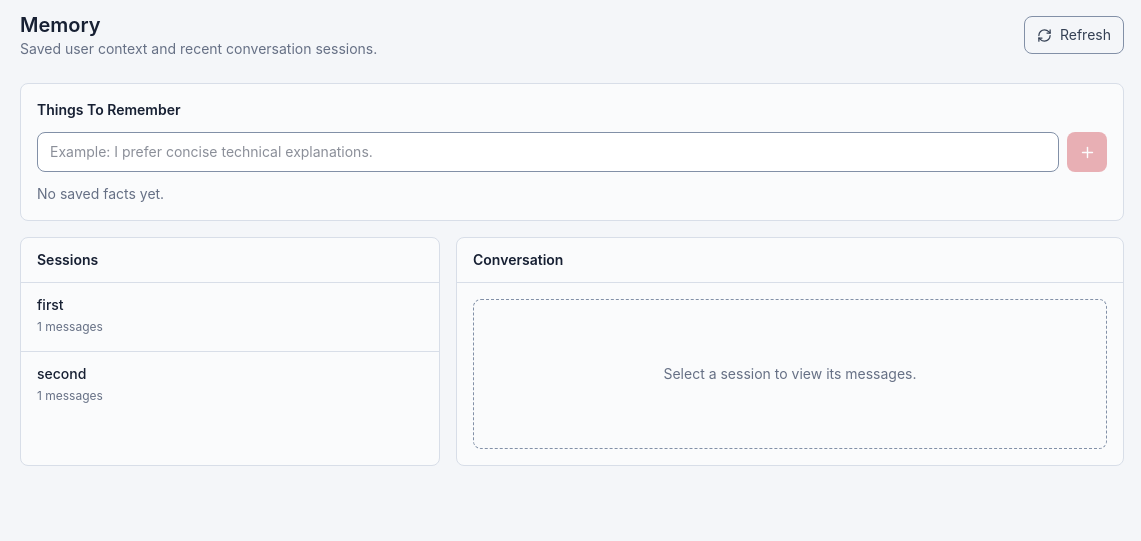
ignores a slower history response for a previously selected session
The image size is (1141, 541).
What coordinates should you click on to do the following:
click the button "first 1 messages"
I would click on:
 (72, 326)
Its box is [21,283,439,352].
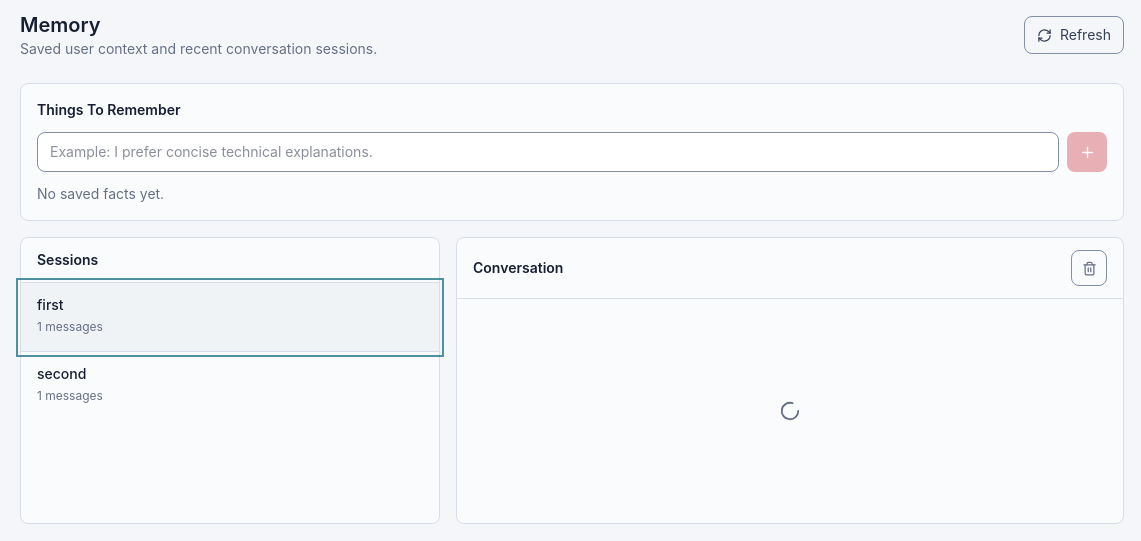
What coordinates should you click on to do the following:
click the button "second 1 messages"
I would click on:
 (62, 374)
Its box is [21,352,439,420].
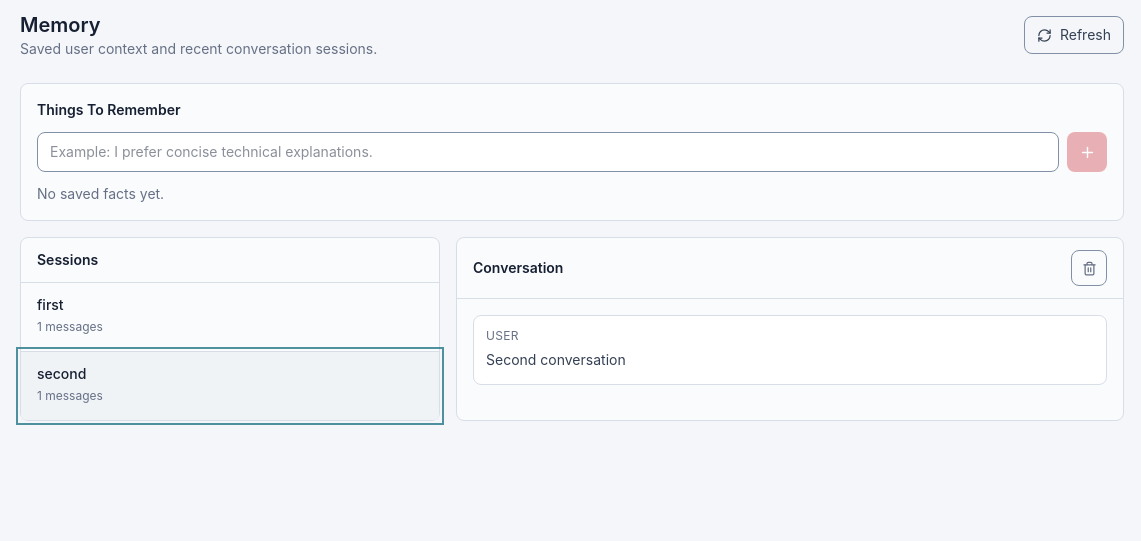
Result: the text "Second conversation" is shown at [486,351,626,368]
